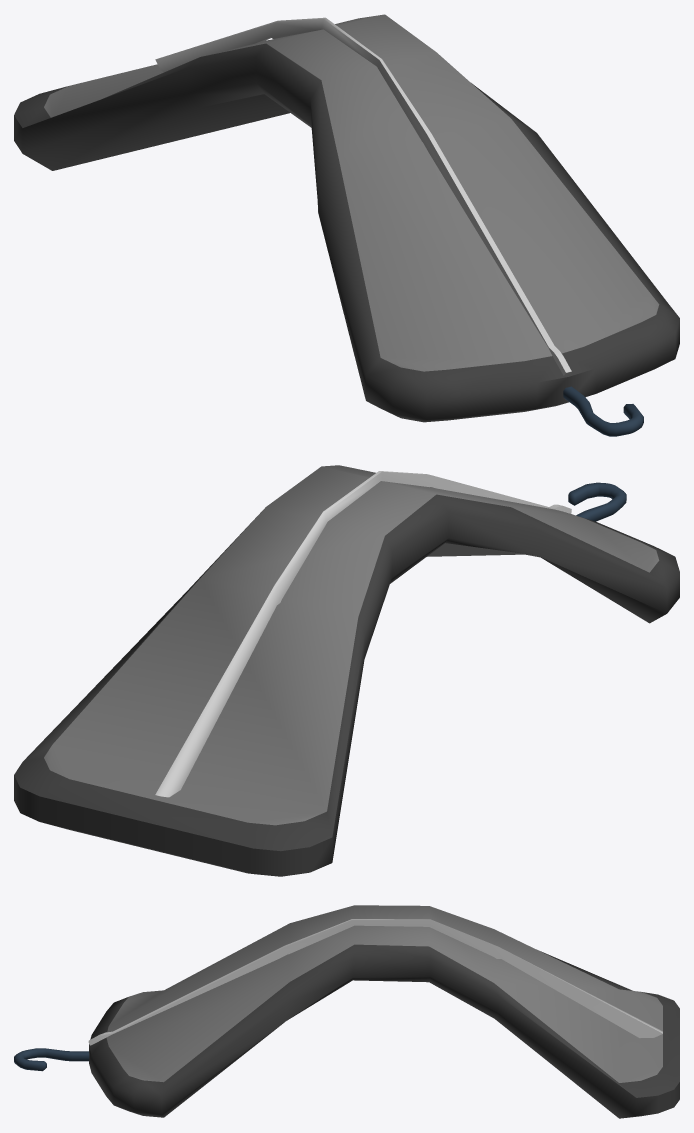
File: Suit-2.fbx
The picture shows the model from 3 angles, top to bottom: view 1: azimuth 30°, elevation 25°; view 2: azimuth 150°, elevation 25°; view 3: azimuth 270°, elevation 25°; orthographic projection. The views are drawn at different scales.
Parts seen in each view (by area): view 1: Suit-2; view 2: Suit-2; view 3: Suit-2.
Boxes of the visible parts, x1,y1,x2,y2 form: Suit-2: (14,14,679,436); Suit-2: (14,465,679,876); Suit-2: (14,905,679,1118).
Bounding box in the file's own units: 0.5471 × 0.3683 × 1.46.
